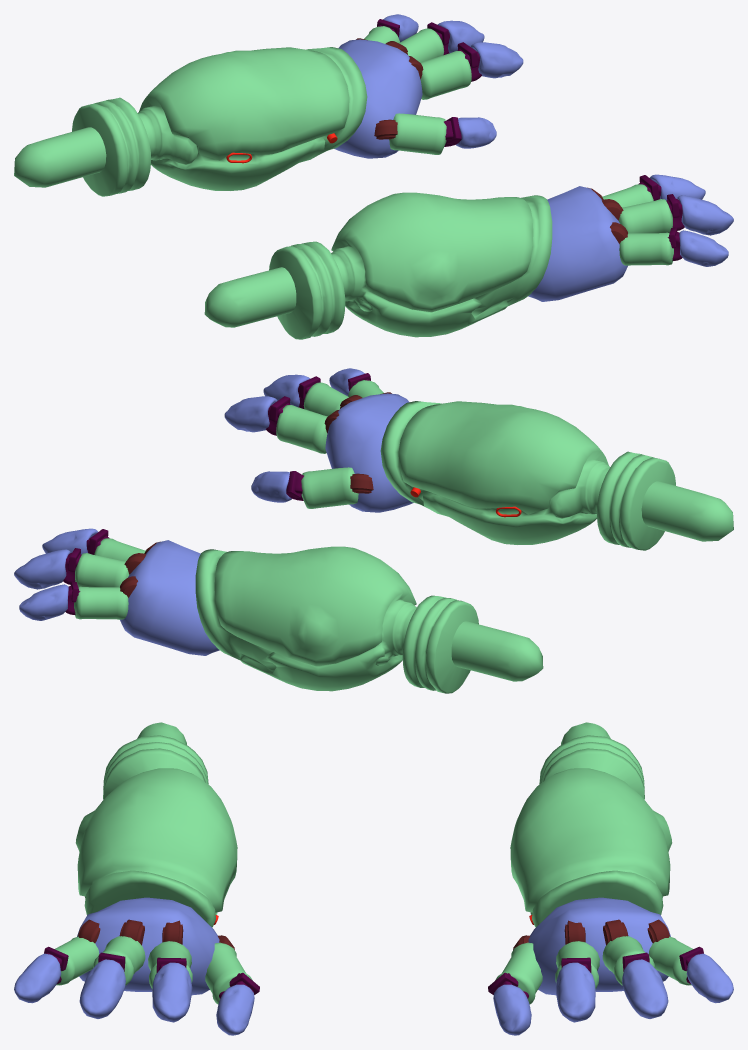
The model's file is handfps_low2.fbx.
The picture shows the model from 3 angles, top to bottom: view 1: azimuth 30°, elevation 25°; view 2: azimuth 150°, elevation 25°; view 3: azimuth 270°, elevation 25°; orthographic projection. The views are drawn at different scales.
Visible parts, largest first — view 1: ARM_low_R, ARM_low_L, PALM_low_R, PALM_low_L, middlebone04_low_L, middlebone03_low_L, middlebone01_low_R, middlebone02_low_R, fingertip02_low_R, fingertip01_low_L, fingertip04_low_R, fingertip03_low_L (+4 smaller); view 2: ARM_low_L, ARM_low_R, PALM_low_L, PALM_low_R, middlebone04_low_R, middlebone03_low_R, middlebone01_low_L, middlebone02_low_L, fingertip02_low_L, fingertip01_low_R, fingertip04_low_L, fingertip03_low_R (+4 smaller); view 3: ARM_low_L, ARM_low_R, PALM_low_L, PALM_low_R, fingertip02_low_L, fingertip02_low_R, fingertip01_low_L, fingertip01_low_R, fingertip04_low_L, fingertip04_low_R, fingertip03_low_L, fingertip03_low_R (+8 smaller).
Boxes of the visible parts, left/top/right/bottom form: ARM_low_R: left=204, top=192, right=552, bottom=339; ARM_low_L: left=14, top=47, right=367, bottom=196; PALM_low_R: left=528, top=186, right=627, bottom=301; PALM_low_L: left=334, top=39, right=422, bottom=158; middlebone04_low_L: left=389, top=113, right=446, bottom=154; middlebone03_low_L: left=420, top=51, right=471, bottom=99; middlebone01_low_R: left=619, top=232, right=673, bottom=265; middlebone02_low_R: left=618, top=199, right=672, bottom=233; fingertip02_low_R: left=677, top=195, right=733, bottom=235; fingertip01_low_L: left=470, top=42, right=523, bottom=78; fingertip04_low_R: left=679, top=230, right=728, bottom=266; fingertip03_low_L: left=456, top=117, right=496, bottom=148; ARM_low_L: left=195, top=546, right=543, bottom=693; ARM_low_R: left=380, top=401, right=733, bottom=550; PALM_low_L: left=120, top=540, right=219, bottom=655; PALM_low_R: left=325, top=393, right=413, bottom=512; middlebone04_low_R: left=301, top=467, right=358, bottom=508; middlebone03_low_R: left=276, top=405, right=327, bottom=453; middlebone01_low_L: left=74, top=586, right=128, bottom=619; middlebone02_low_L: left=75, top=553, right=129, bottom=587; fingertip02_low_L: left=14, top=549, right=70, bottom=589; fingertip01_low_R: left=224, top=396, right=277, bottom=432; fingertip04_low_L: left=19, top=584, right=68, bottom=620; fingertip03_low_R: left=251, top=471, right=291, bottom=502; ARM_low_L: left=510, top=722, right=672, bottom=927; ARM_low_R: left=75, top=722, right=237, bottom=927; PALM_low_L: left=528, top=897, right=670, bottom=995; PALM_low_R: left=77, top=897, right=219, bottom=995; fingertip02_low_L: left=622, top=959, right=668, bottom=1018; fingertip02_low_R: left=79, top=959, right=125, bottom=1018; fingertip01_low_L: left=555, top=962, right=595, bottom=1022; fingertip01_low_R: left=152, top=962, right=192, bottom=1022; fingertip04_low_L: left=686, top=953, right=733, bottom=1003; fingertip04_low_R: left=14, top=953, right=61, bottom=1003; fingertip03_low_L: left=493, top=984, right=531, bottom=1035; fingertip03_low_R: left=216, top=984, right=254, bottom=1035.
Bounding box in the file's own units: 3.59 × 0.8955 × 3.99.
